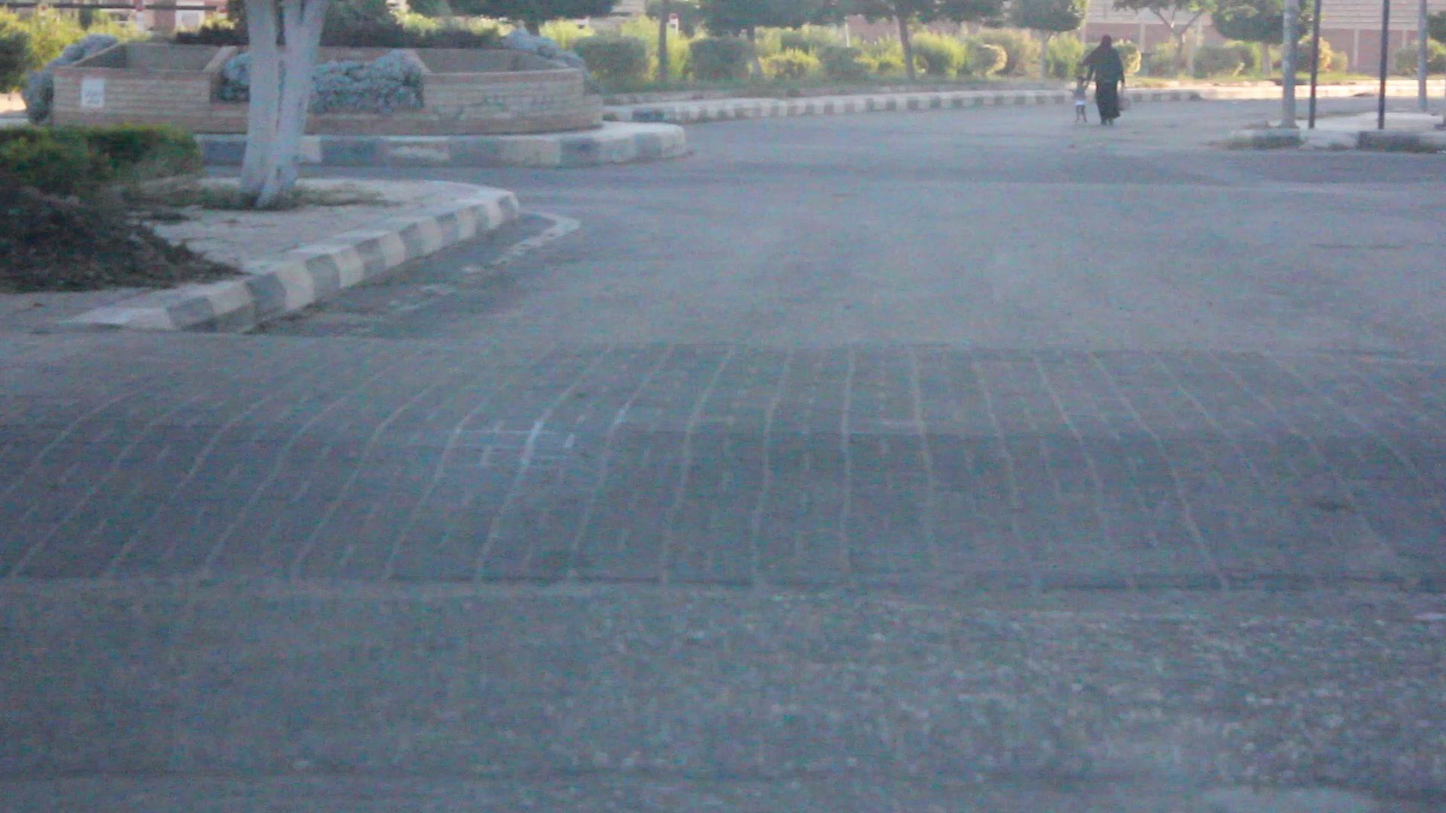Bump: (0, 326, 1445, 606)
